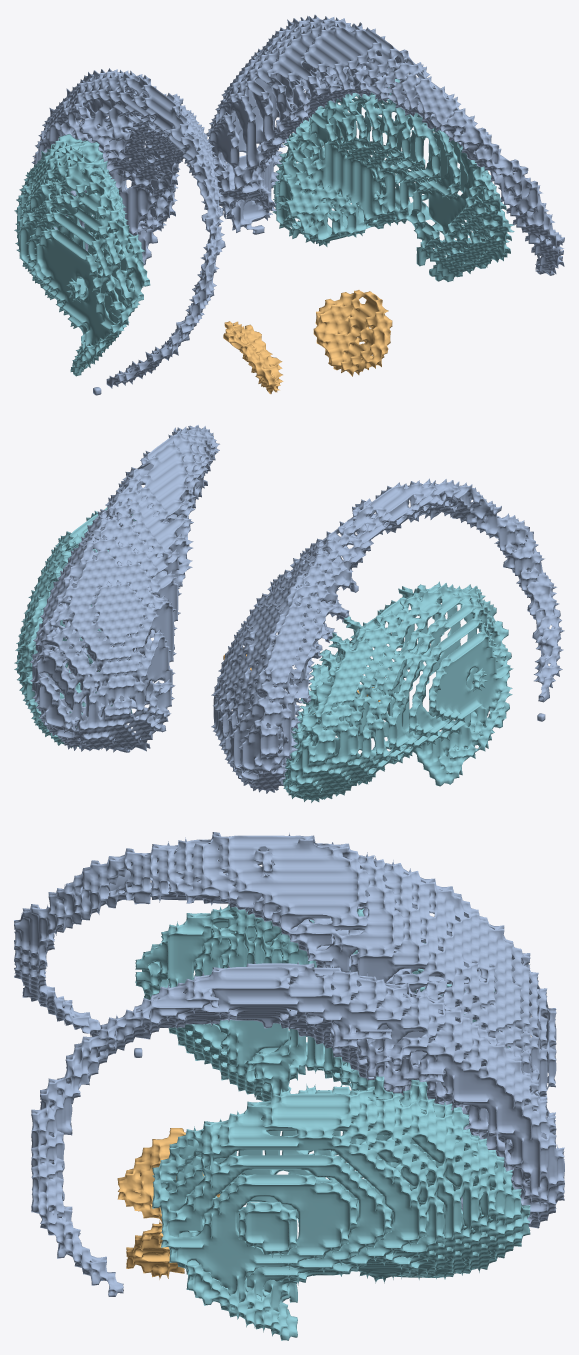
Rendered from cit168-subcortical.glb.
3 views of the same model, one above another, from view 1: azimuth 30°, elevation 25°; view 2: azimuth 150°, elevation 25°; view 3: azimuth 270°, elevation 25° (orthographic). The views are drawn at different scales.
Parts seen in each view (by area): view 1: CIT168 · Caudate · right, CIT168 · Putamen · right, CIT168 · Caudate · left, CIT168 · Putamen · left, CIT168 · Substantia nigra pars compacta · right, CIT168 · Substantia nigra pars compacta · left; view 2: CIT168 · Caudate · right, CIT168 · Putamen · left, CIT168 · Caudate · left, CIT168 · Putamen · right; view 3: CIT168 · Putamen · right, CIT168 · Caudate · left, CIT168 · Caudate · right, CIT168 · Putamen · left, CIT168 · Substantia nigra pars compacta · left, CIT168 · Substantia nigra pars compacta · right.
Part boxes in pixels (bbox=[...]): CIT168 · Caudate · right: bbox=[205, 14, 564, 275]; CIT168 · Putamen · right: bbox=[272, 79, 514, 281]; CIT168 · Caudate · left: bbox=[31, 68, 225, 395]; CIT168 · Putamen · left: bbox=[14, 134, 150, 376]; CIT168 · Substantia nigra pars compacta · right: bbox=[313, 290, 392, 376]; CIT168 · Substantia nigra pars compacta · left: bbox=[223, 321, 283, 393]; CIT168 · Caudate · right: bbox=[29, 425, 219, 752]; CIT168 · Putamen · left: bbox=[282, 581, 513, 802]; CIT168 · Caudate · left: bbox=[211, 478, 564, 793]; CIT168 · Putamen · right: bbox=[14, 507, 135, 748]; CIT168 · Putamen · right: bbox=[152, 1076, 530, 1340]; CIT168 · Caudate · left: bbox=[14, 832, 556, 1102]; CIT168 · Caudate · right: bbox=[31, 961, 564, 1296]; CIT168 · Putamen · left: bbox=[135, 904, 509, 1101]; CIT168 · Substantia nigra pars compacta · left: bbox=[117, 1128, 220, 1223]; CIT168 · Substantia nigra pars compacta · right: bbox=[126, 1220, 184, 1279].
Size of the model in its own units: 3.64 by 2.24 by 3.19.
